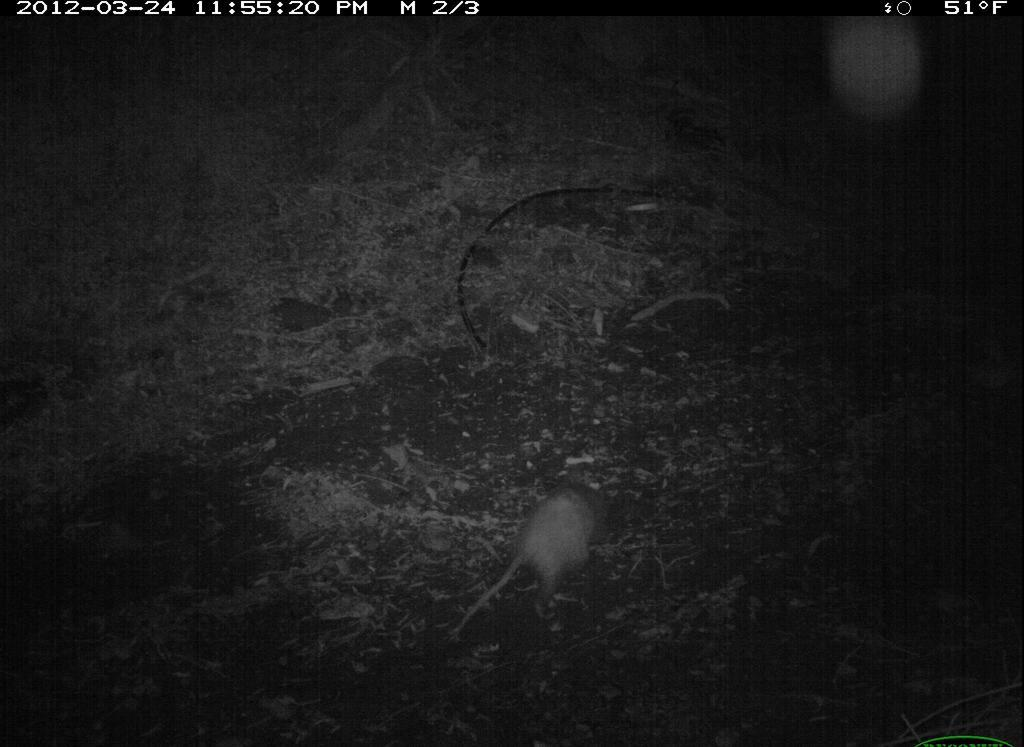opossum: (446, 478, 615, 633)
